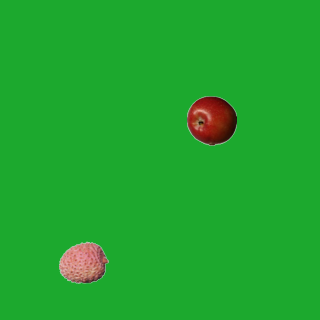Apple Braeburn: (186, 95, 236, 145)
Lychee: (58, 237, 108, 287)
